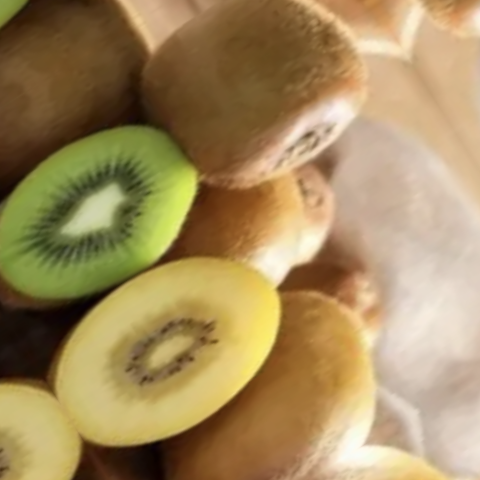kiwi: (71, 233, 452, 480), (115, 0, 411, 229)
